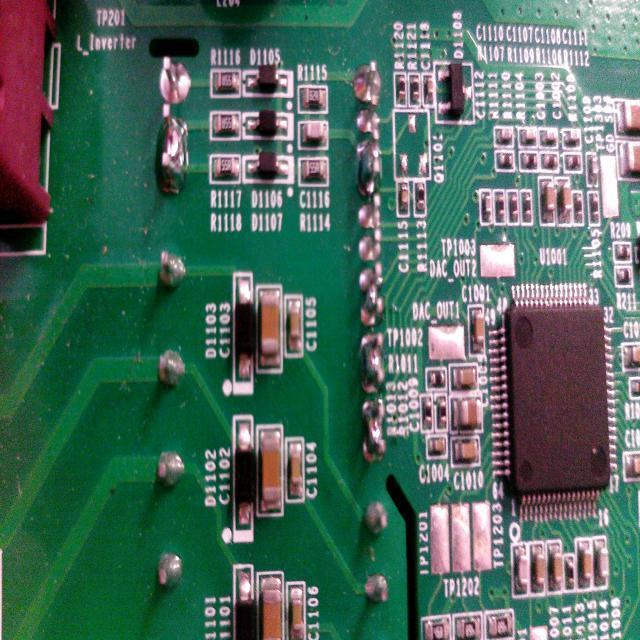Soldering shorted: (154, 102, 191, 196), (354, 262, 388, 332), (356, 332, 390, 402), (356, 397, 390, 467), (354, 130, 381, 197)
